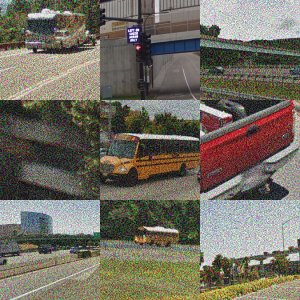汽車: (105, 223, 201, 299), (202, 146, 287, 197), (11, 258, 58, 280), (1, 240, 31, 260), (223, 53, 244, 74), (109, 47, 130, 66), (145, 44, 158, 55)
腳踏車: (24, 132, 82, 175), (129, 122, 155, 154)
